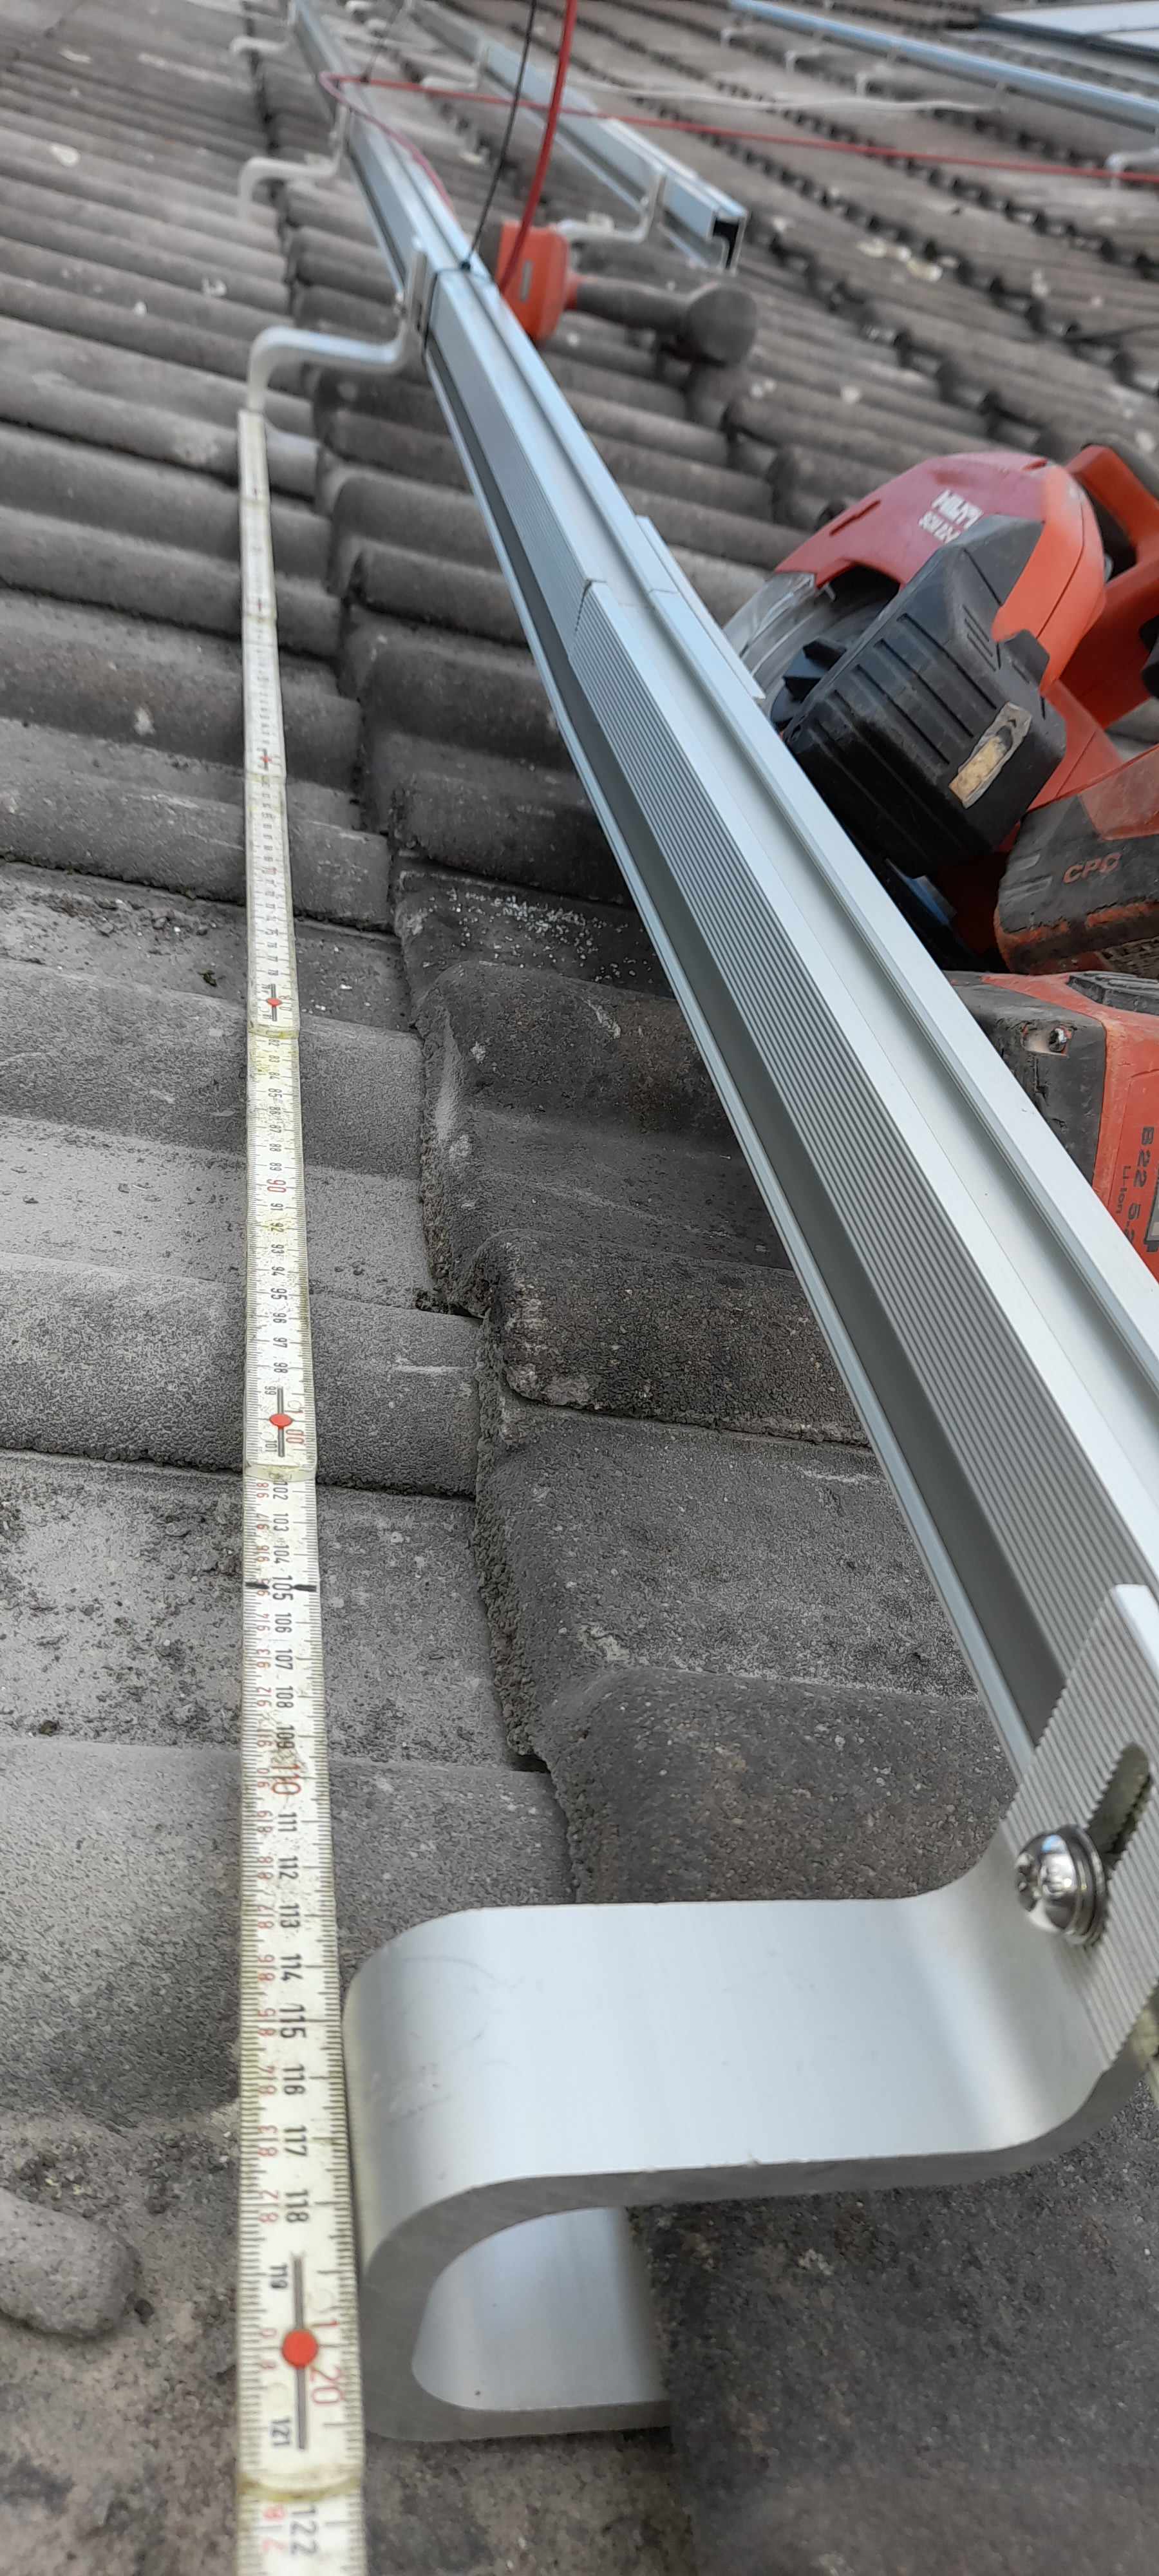hook: (340, 1580, 1159, 2443), (245, 235, 427, 412), (238, 80, 353, 220), (558, 156, 667, 264), (227, 0, 295, 57), (419, 39, 489, 94), (854, 44, 900, 99), (1105, 143, 1159, 189), (785, 20, 826, 74), (721, 3, 757, 48), (364, 0, 412, 33), (343, 0, 378, 15)
